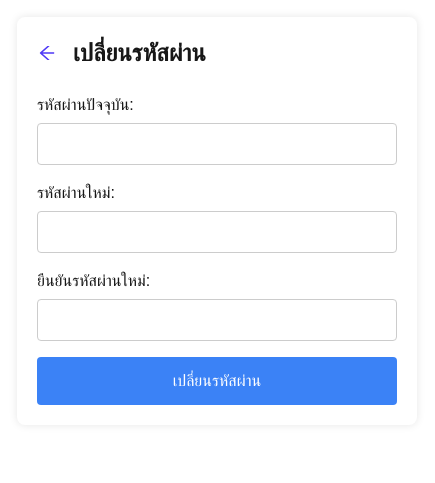
Scenario: ChangePassword › ควรแสดงข้อผิดพลาดเมื่อรหัสผ่านใหม่และยืนยันรหัสผ่านไม่ตรงกัน
This screenshot has width=435, height=483.
In the password field labelled "รหัสผ่านปัจจุบัน:": (217, 144) left=37, top=123, right=397, bottom=165, type "oldpass"
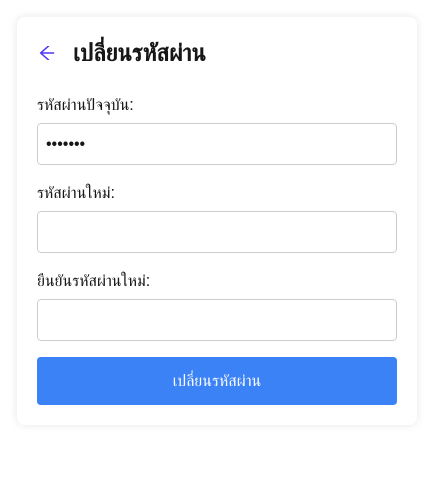
In the password field labelled "รหัสผ่านใหม่:": (217, 232) left=37, top=211, right=397, bottom=253, type "newpass123"
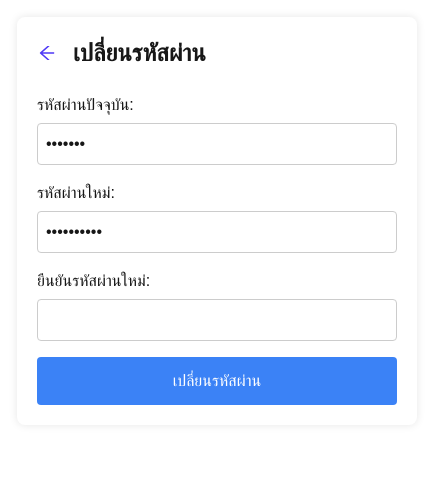
In the password field labelled "ยืนยันรหัสผ่านใหม่:": (217, 320) left=37, top=299, right=397, bottom=341, type "newpass456"
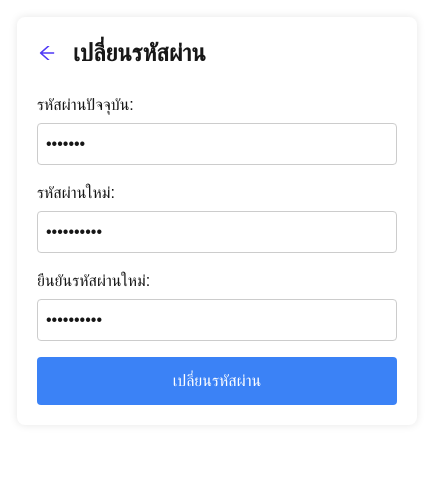
Click the button "เปลี่ยนรหัสผ่าน": (217, 381) left=37, top=357, right=397, bottom=405
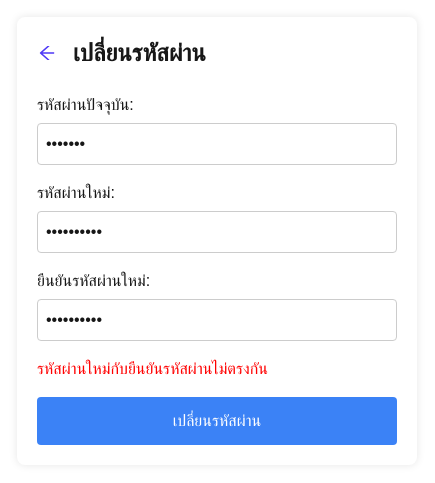
Check: the text "รหัสผ่านใหม่กับยืนยันรหัสผ่านไม่ตรงกัน" is shown, box left=37, top=360, right=268, bottom=377
